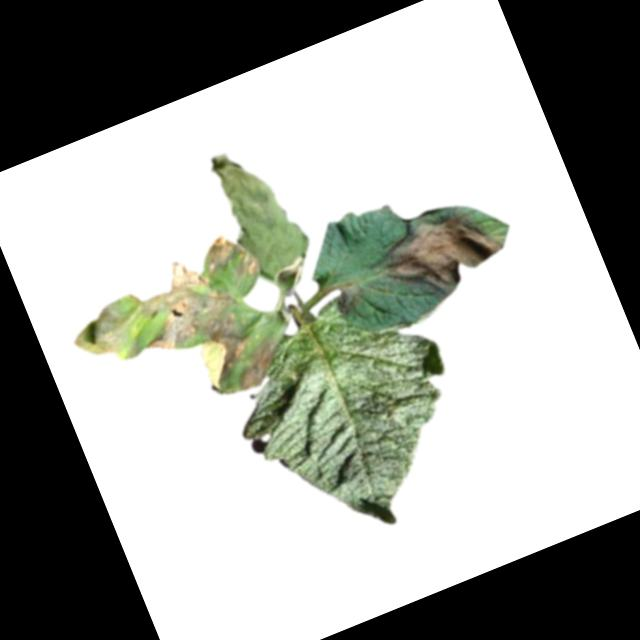Late_blight: (115, 225, 301, 420), (203, 133, 315, 283), (371, 198, 514, 315), (62, 299, 136, 366), (329, 278, 370, 316)
healthy: (208, 269, 494, 564)
